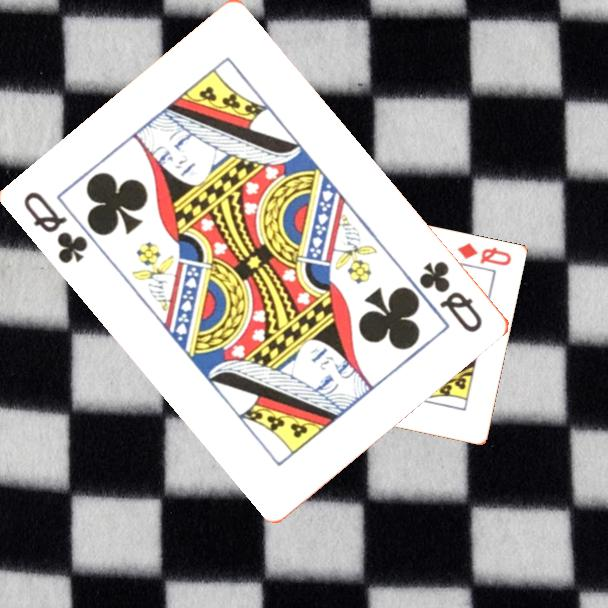c12: (20, 187, 92, 267), (416, 257, 486, 336)
d12: (453, 239, 514, 269)
